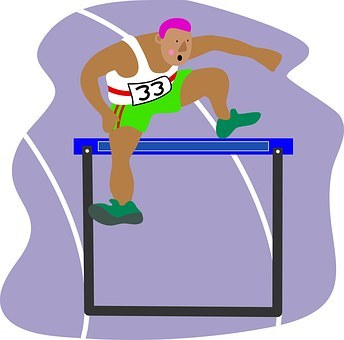person: (66, 14, 287, 239)
